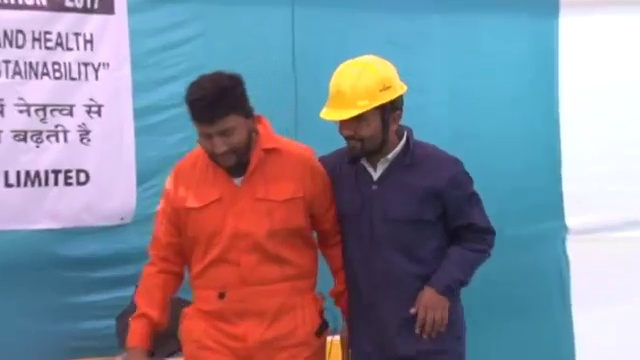helmet: (318, 54, 407, 121)
helmet_off: (183, 71, 257, 173)
helmet_on: (316, 55, 412, 160)
person: (126, 70, 337, 360), (316, 50, 499, 360)
